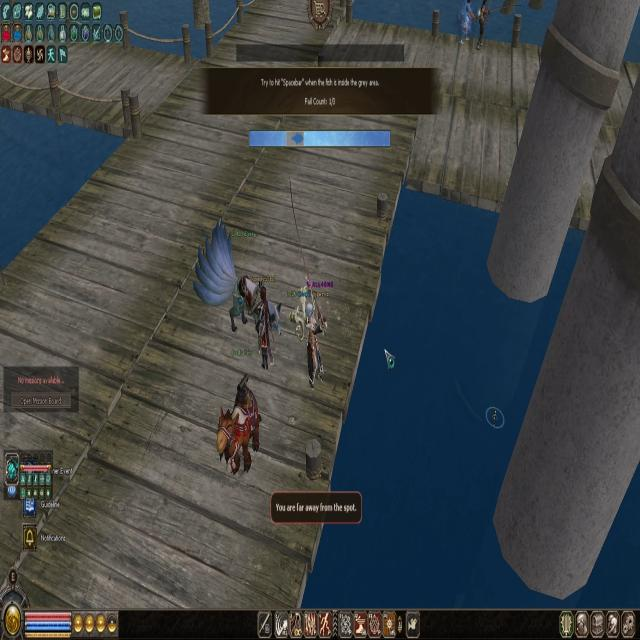box: (286, 131, 304, 146)
fishes: (292, 133, 304, 145)
